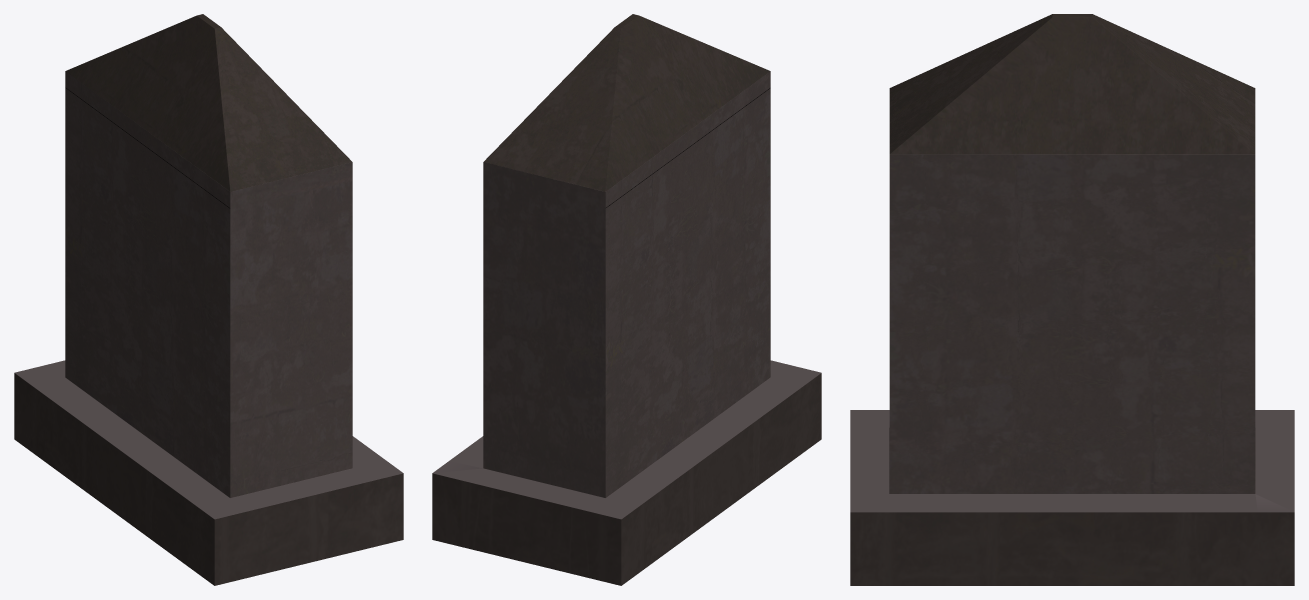
Rendered from Grave1.fbx.
3 renders of one model, left to right at view 1: azimuth 30°, elevation 25°; view 2: azimuth 150°, elevation 25°; view 3: azimuth 270°, elevation 25°, orthographic. The views are drawn at different scales.
Visible parts, largest first — view 1: Box001; view 2: Box001; view 3: Box001.
Boxes of the visible parts, bbox=[...] form: Box001: bbox=[14, 14, 403, 585]; Box001: bbox=[432, 14, 821, 585]; Box001: bbox=[850, 14, 1294, 585].
Size of the model in its own units: 36.15 by 85.47 by 66.32.
Materials: 1 (1 with a texture image).
